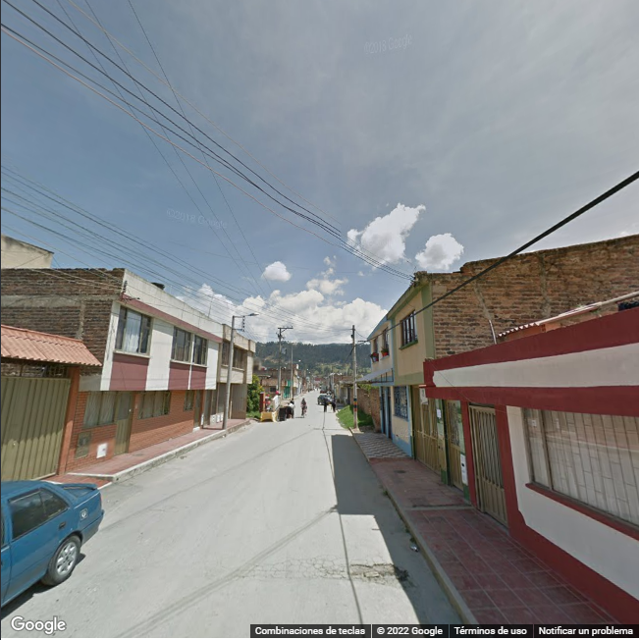D20: (248, 558, 344, 579)
D40: (352, 564, 409, 583)
